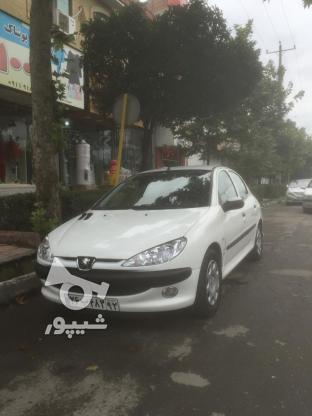car: (55, 294, 116, 308)
